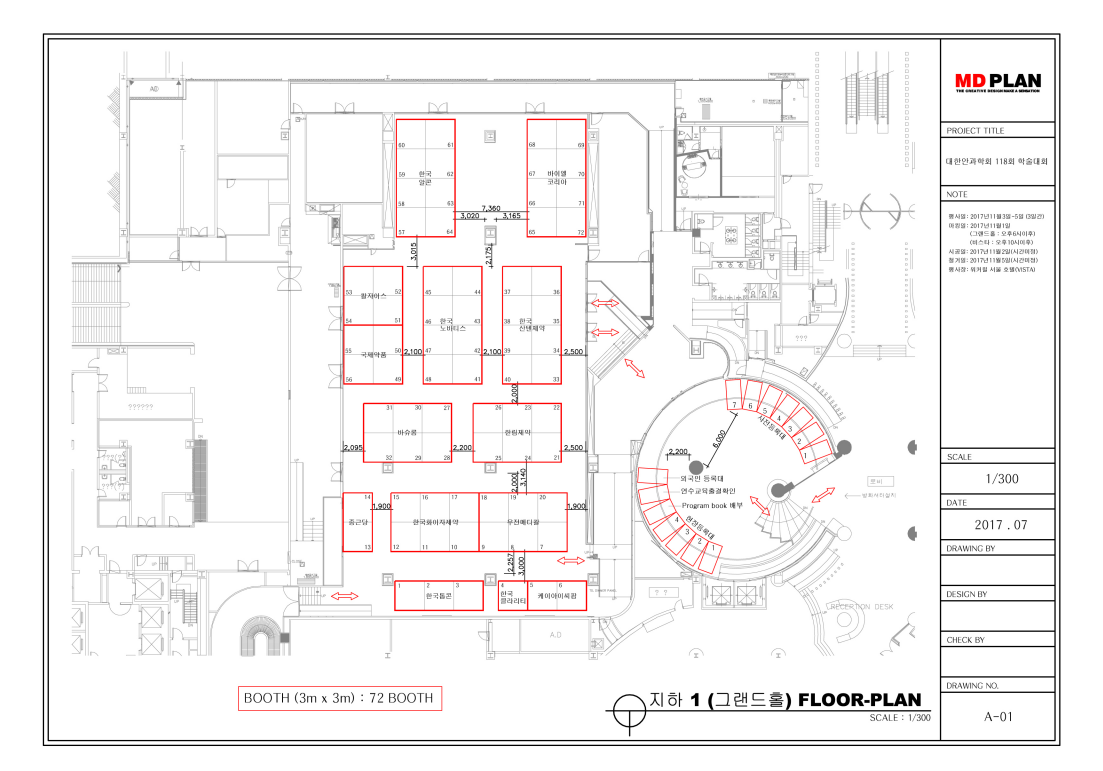booth: (398, 117, 455, 236), (527, 117, 584, 236), (501, 264, 558, 383), (423, 265, 480, 384), (364, 403, 448, 460), (474, 405, 558, 462), (480, 494, 564, 551), (393, 494, 477, 551), (342, 266, 403, 324), (338, 325, 399, 383), (395, 582, 482, 611), (528, 582, 588, 611), (344, 494, 371, 551), (498, 581, 527, 612), (647, 519, 681, 538), (657, 533, 693, 550), (799, 446, 833, 463), (793, 432, 827, 449), (789, 414, 823, 431), (637, 467, 669, 483), (639, 488, 671, 504), (644, 505, 676, 521), (690, 534, 702, 572), (707, 544, 722, 573), (727, 380, 742, 409), (743, 381, 758, 410), (761, 387, 776, 416), (778, 395, 793, 424)
boundary: (343, 115, 591, 613), (640, 377, 839, 577)
entrance: (771, 497, 817, 541), (640, 377, 663, 405), (337, 585, 351, 617), (587, 545, 598, 577), (586, 323, 599, 341), (588, 297, 601, 314)
exit: (772, 495, 815, 539), (336, 585, 353, 615), (642, 378, 661, 401), (586, 545, 599, 575), (587, 296, 599, 317), (586, 325, 599, 341)
